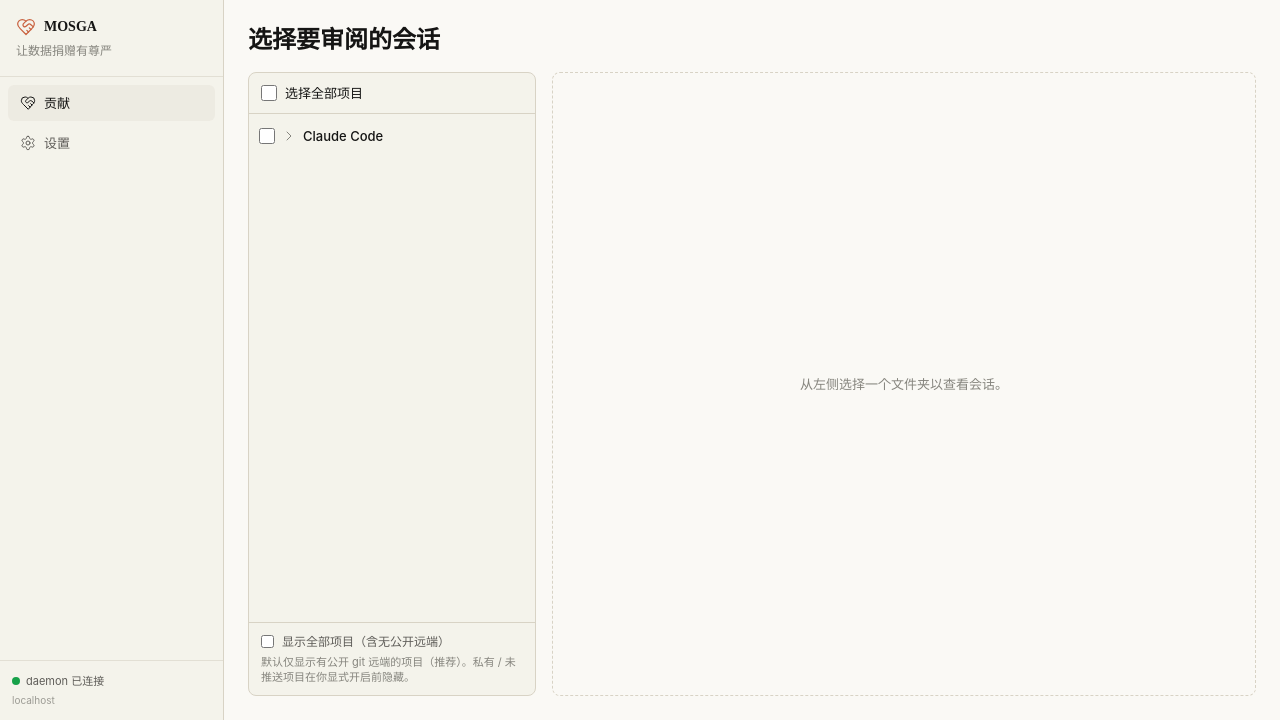
Scenario: @mosga/ui smoke › walks the tree/grid picker into the review journey
The image size is (1280, 720).
Expected: the element with test id "nav-rail" is shown, [0,0,224,719]
Expected: the button with test id "nav-contribute" is shown, [8,85,215,121]
Expand the source → its project lazy-loads.
Click the button with test id "source-claude-code" at (403, 136), box [281,120,525,152]
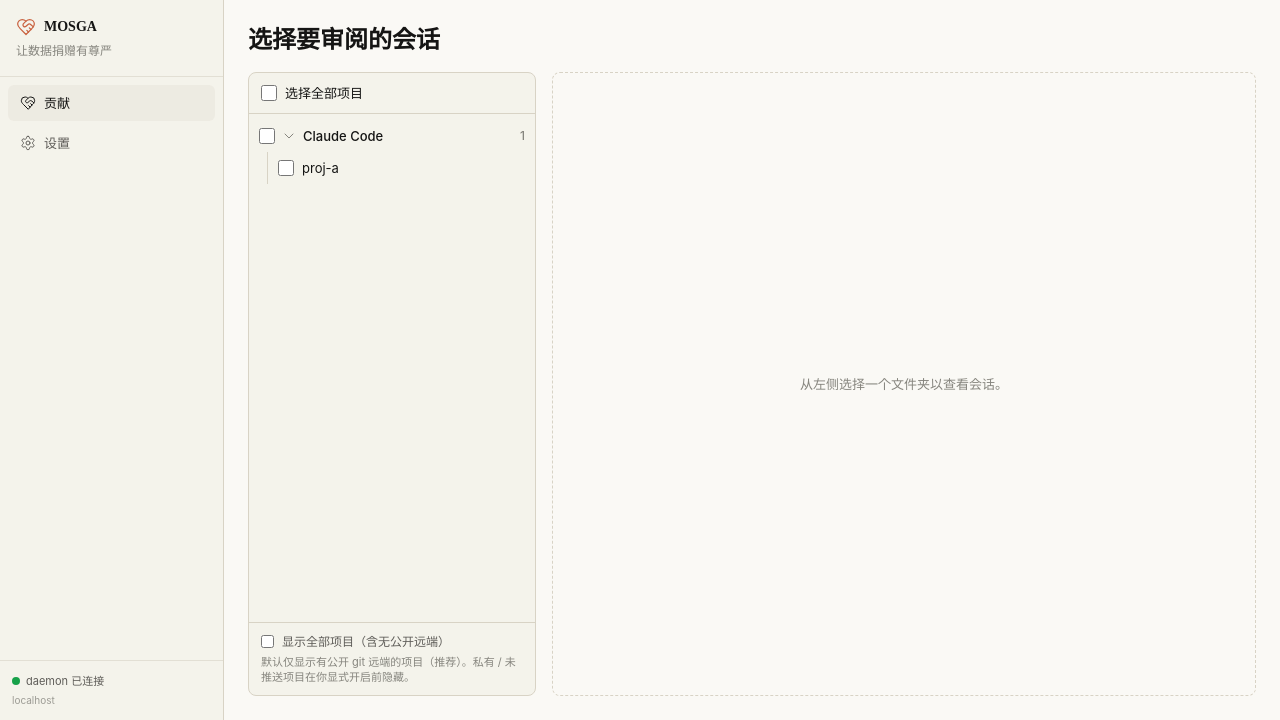
Now the button with test id "project-proj-a" is shown
Open the folder → the session card grid loads.
Click the button with test id "project-proj-a" at (414, 168), box [302,152,525,184]
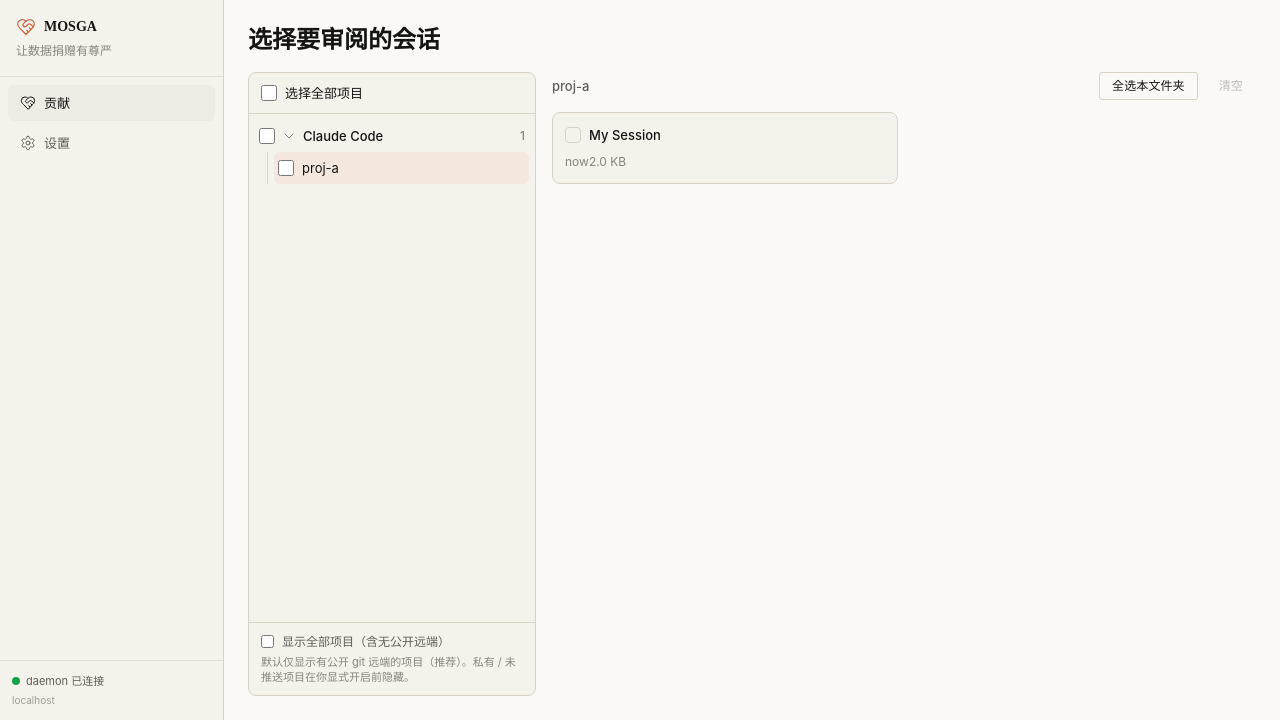
Now the button with test id "session-card-s1" is shown
Select a session → the selection bar surfaces its CTA.
Click the button with test id "session-card-s1" at (625, 135), box [552,112,898,184]
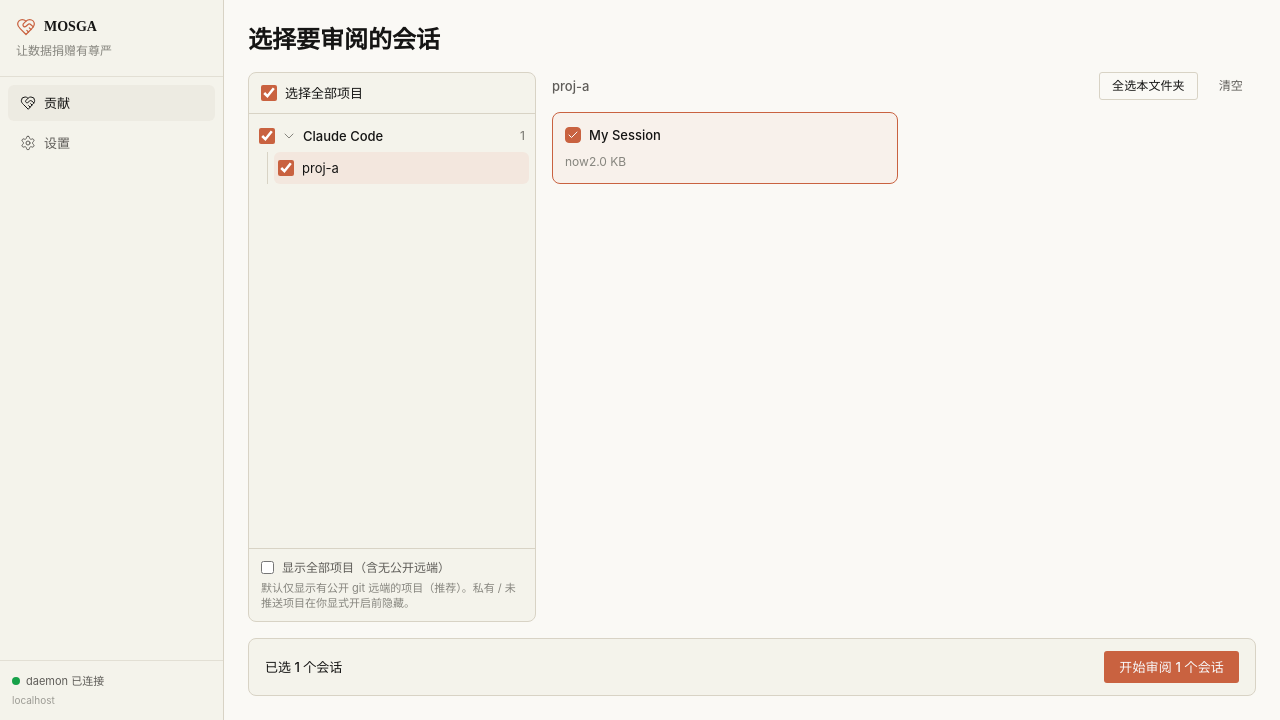
Now the element with test id "selection-bar" is shown, box [248,638,1256,696]
Start review → the queue-aware journey container takes over.
Click the button with test id "start-review" at (1172, 667), box [1104,651,1239,683]
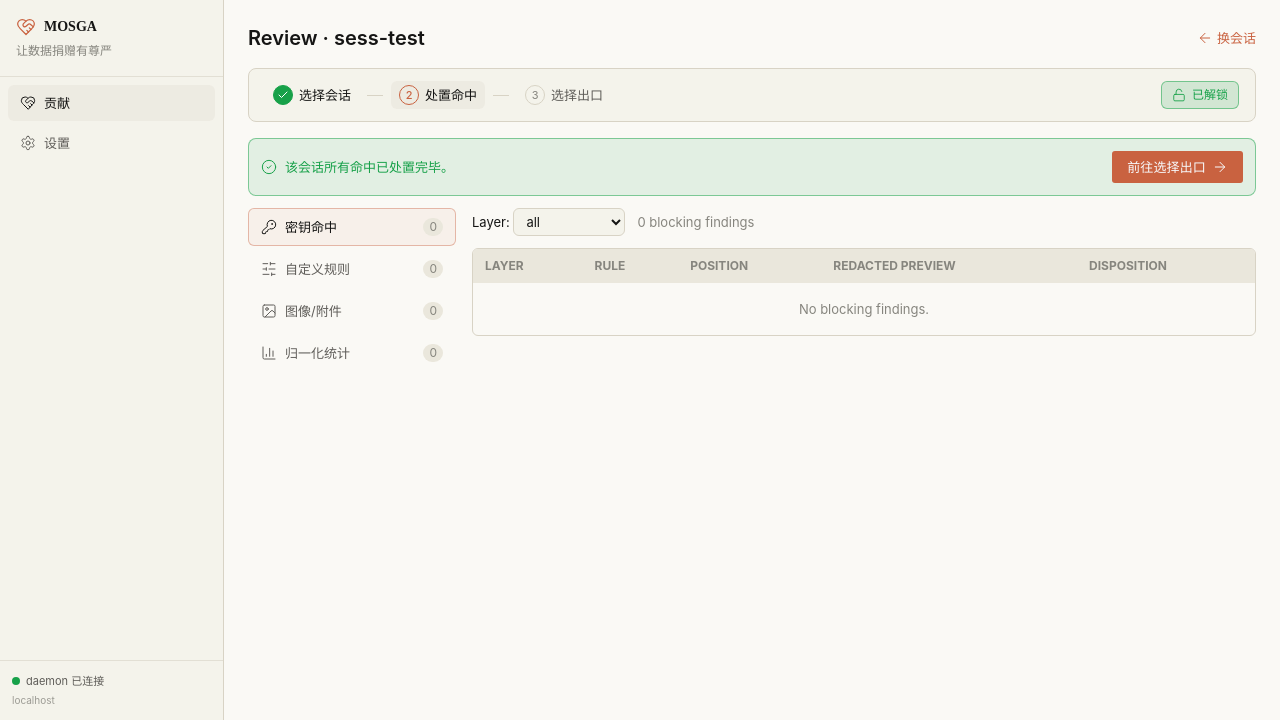
Now the element with test id "stepper" is shown, box [248,68,1256,122]
